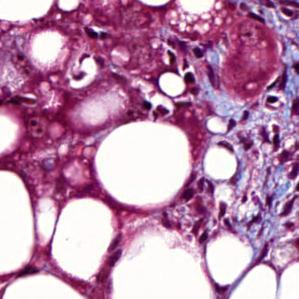steatosis: (95, 118, 196, 211)
